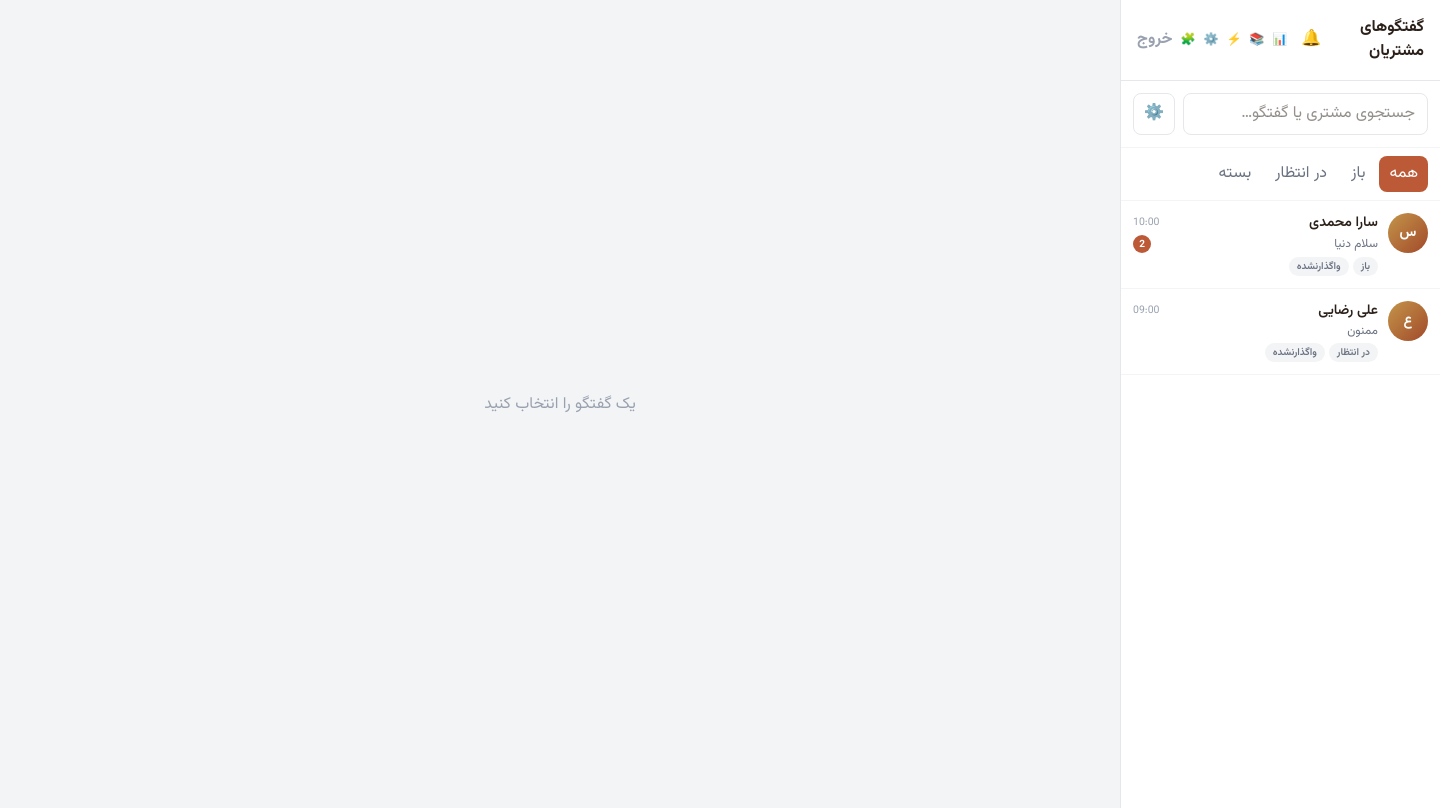
Test: Operator dashboard — customer conversations page › degrades gracefully when a tenant has no customer-context data
The image size is (1440, 808).
Click the text "سارا محمدی" at [1344, 223], box [1309,213,1378,233]
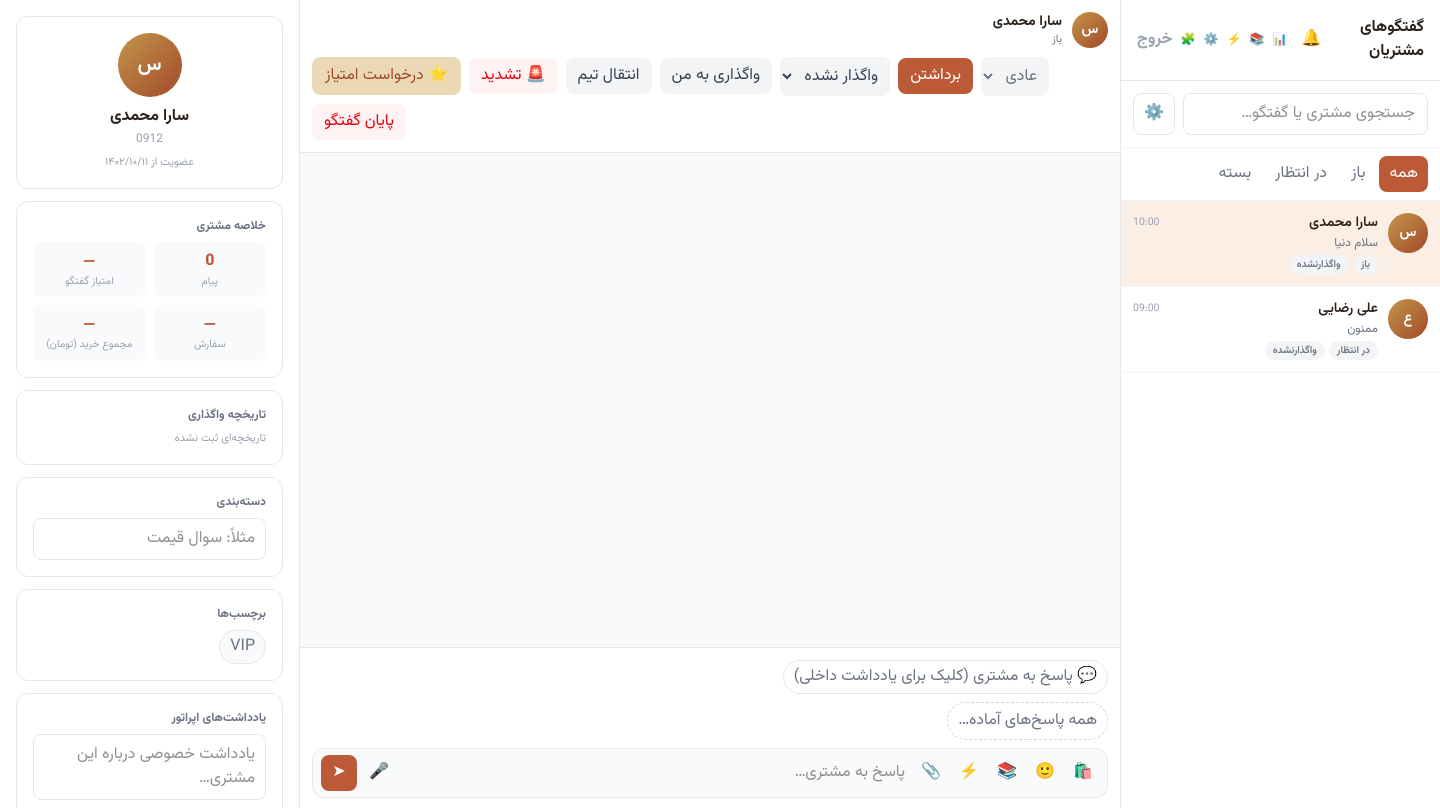
Check: the text "یادداشت‌های اپراتور" is shown, box [172,708,266,726]
